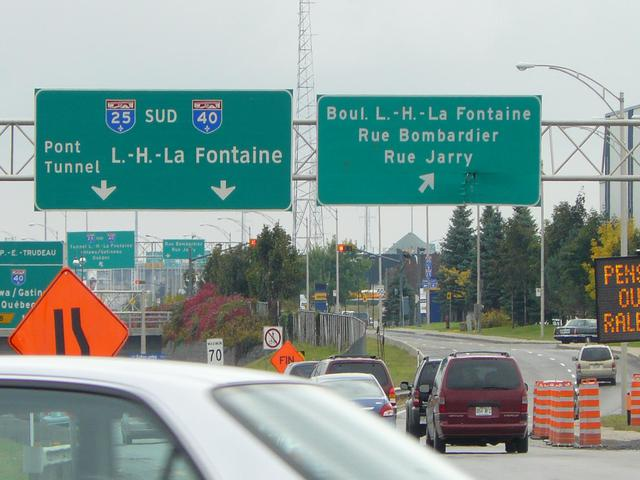autre: (36, 90, 292, 209), (318, 94, 543, 207), (66, 232, 136, 270), (165, 239, 205, 260)
